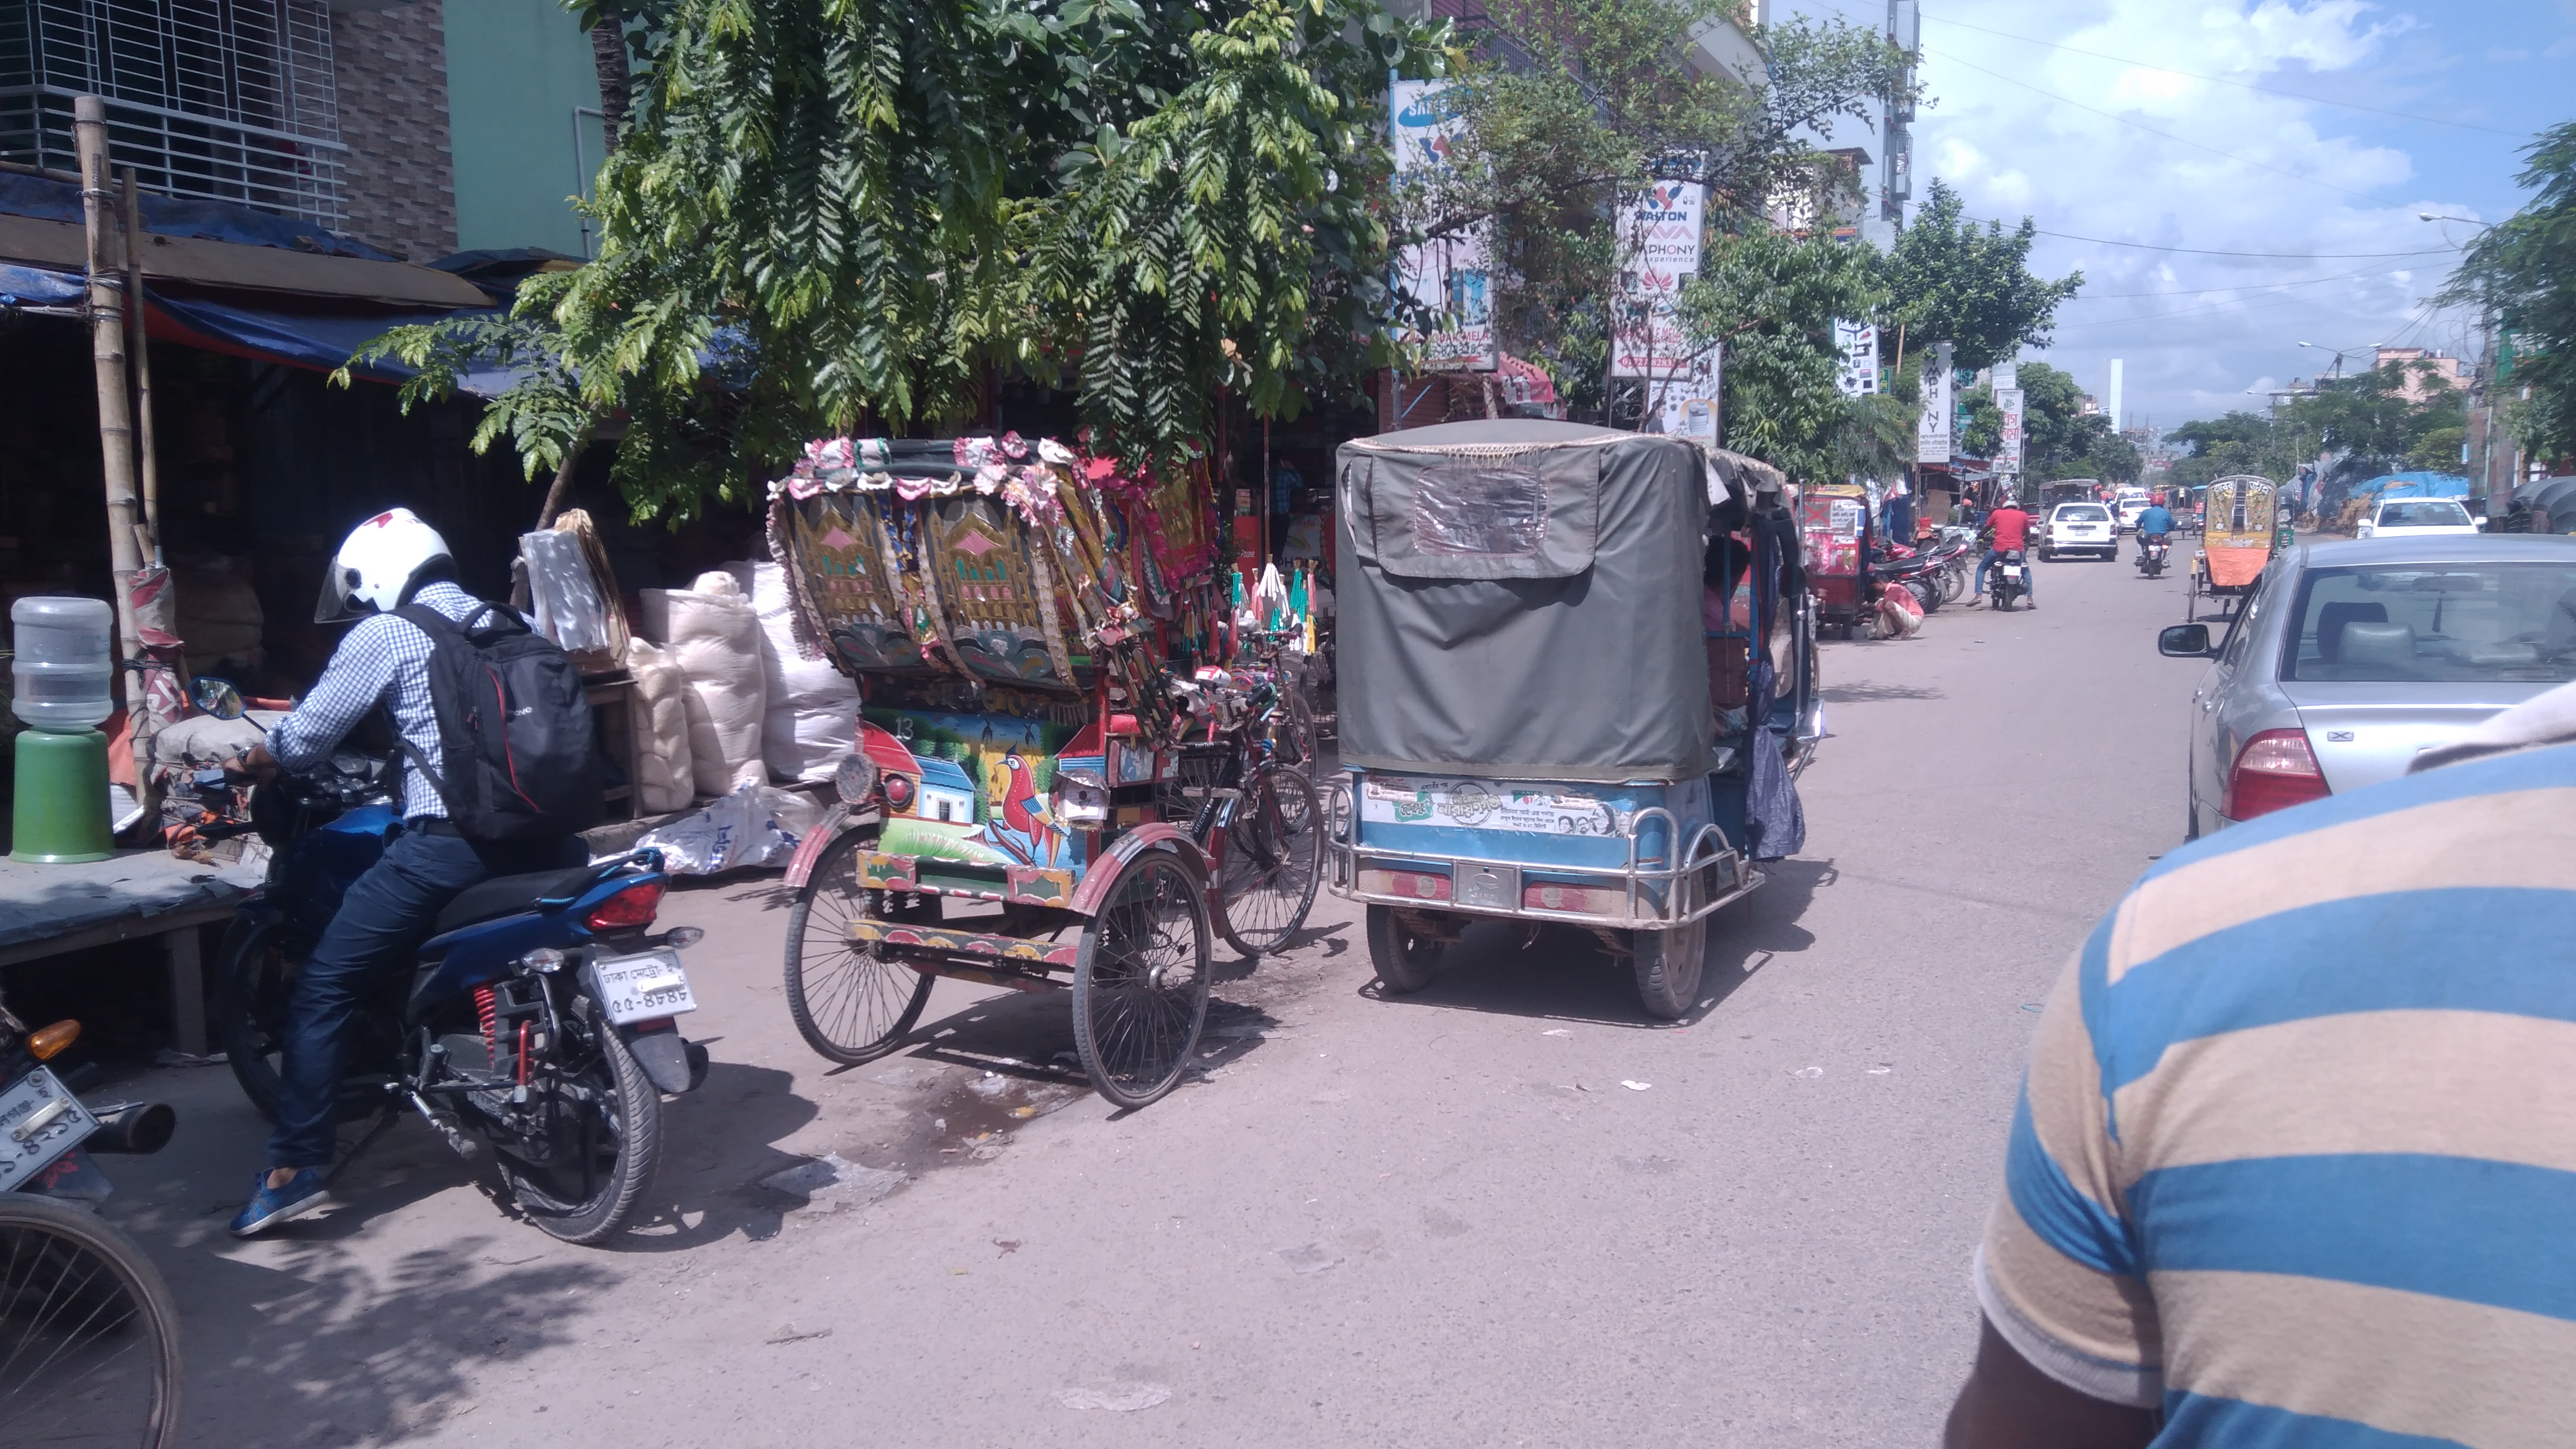bike: (154, 688, 713, 1258), (2116, 504, 2196, 605)
car: (2164, 529, 2576, 828), (2024, 471, 2116, 571)
easybike: (1315, 391, 1836, 1046), (1789, 458, 1884, 649)
rickshaw: (741, 379, 1343, 1127), (2178, 465, 2304, 612)
